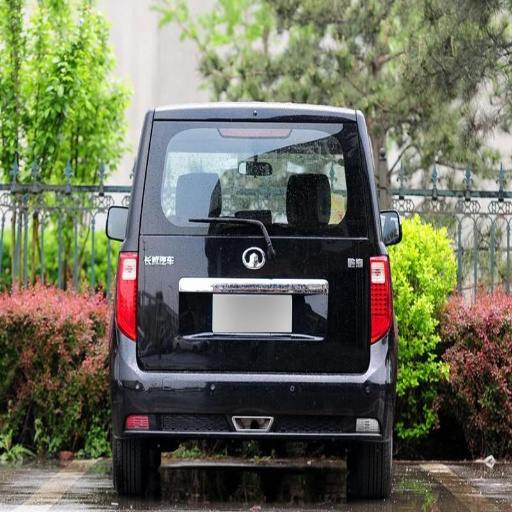back_bumper: (113, 334, 394, 438)
trunk: (123, 237, 370, 400)
